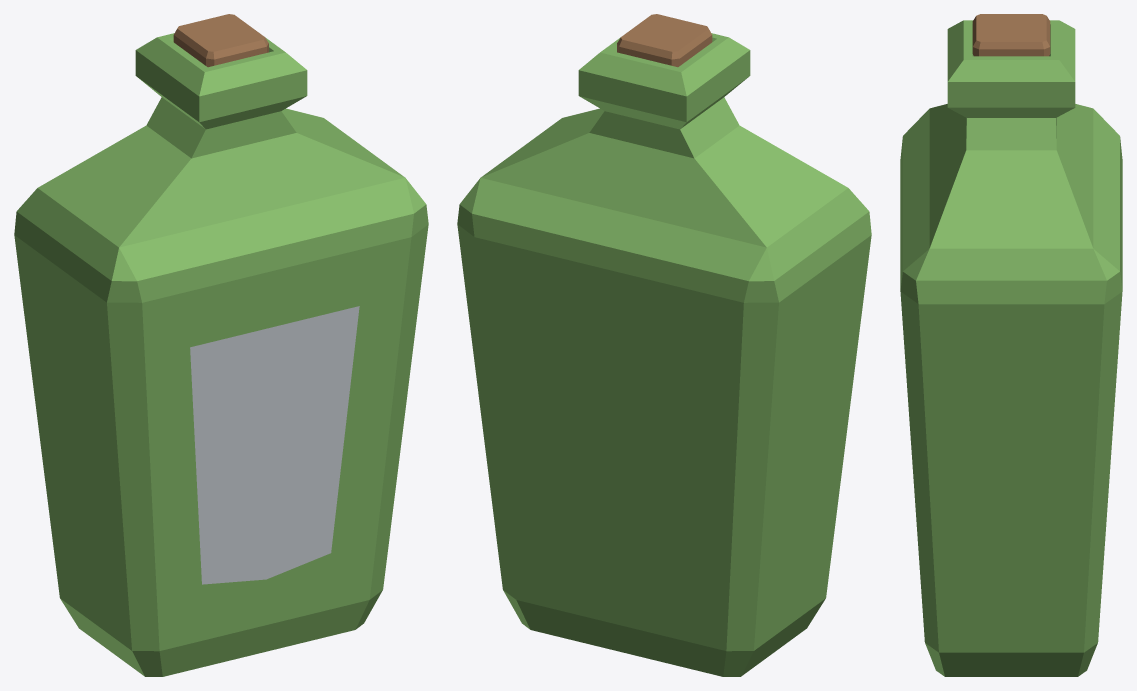
Rendered from Green_Potion_10(Label).fbx.
The picture shows the model from 3 angles, left to right: view 1: azimuth 30°, elevation 25°; view 2: azimuth 150°, elevation 25°; view 3: azimuth 270°, elevation 25°; orthographic projection.
Parts seen in each view (by area): view 1: Green_Potion_10(Label); view 2: Green_Potion_10(Label); view 3: Green_Potion_10(Label).
Part boxes in pixels (x1,y1,x2,y2): Green_Potion_10(Label): (14, 14, 428, 676); Green_Potion_10(Label): (457, 14, 871, 676); Green_Potion_10(Label): (900, 14, 1122, 676).
Size of the model in its own units: 22.96 by 40.43 by 13.67.
